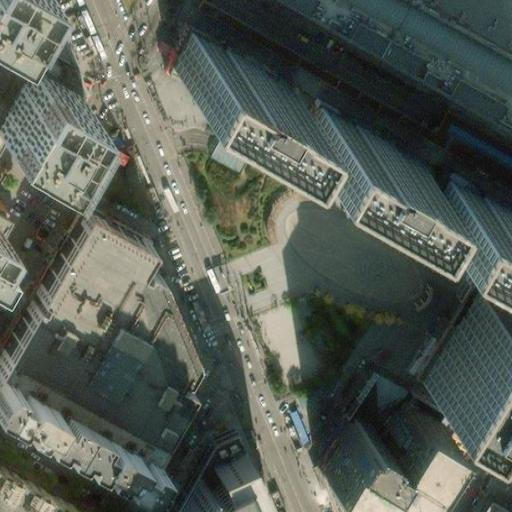building: (0, 200, 182, 445), (323, 373, 445, 484), (172, 33, 296, 128), (301, 109, 423, 203), (430, 284, 512, 408), (425, 178, 512, 265), (173, 447, 267, 512), (176, 423, 241, 494), (82, 418, 152, 476), (29, 388, 95, 446), (0, 468, 76, 512), (481, 497, 511, 512)
